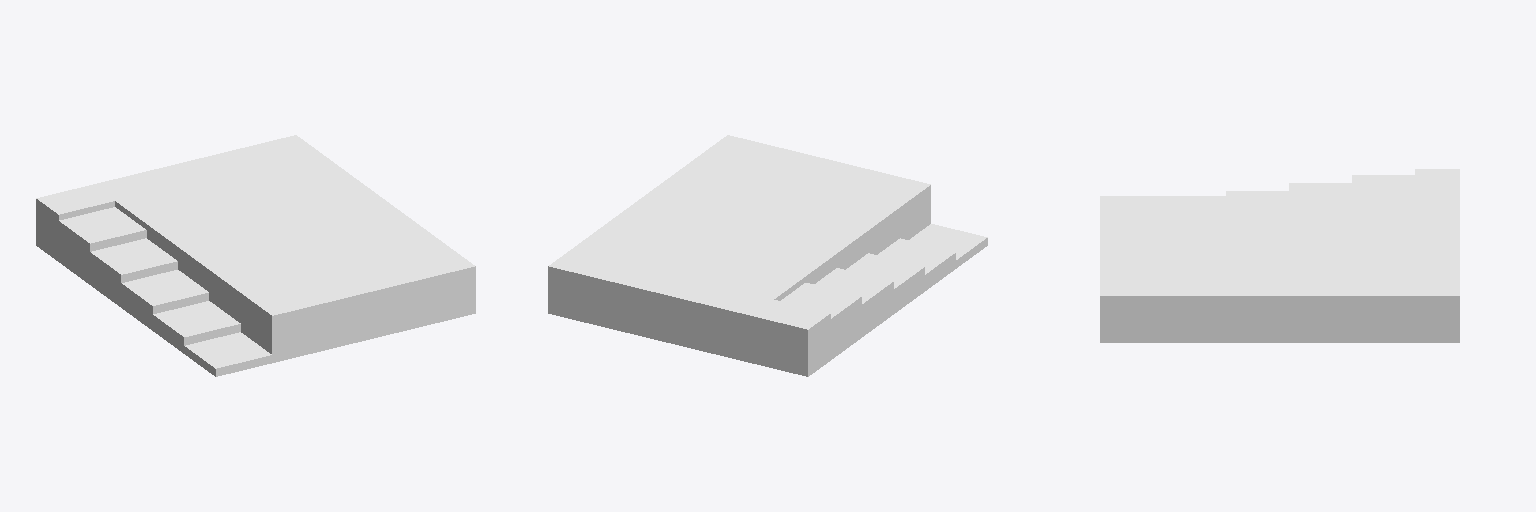
File: WheelPlane.obj
The picture shows the model from 3 angles: view 1: azimuth 30°, elevation 25°; view 2: azimuth 150°, elevation 25°; view 3: azimuth 270°, elevation 25°; orthographic projection.
Parts seen in each view (by area): view 1: UModeler Object; view 2: UModeler Object; view 3: UModeler Object.
Boxes of the visible parts, x1=… form: UModeler Object: x1=36, y1=135, x2=475, y2=376; UModeler Object: x1=548, y1=135, x2=987, y2=376; UModeler Object: x1=1100, y1=169, x2=1459, y2=342.
Bounding box in the file's own units: 11.5 × 2 × 13.75.